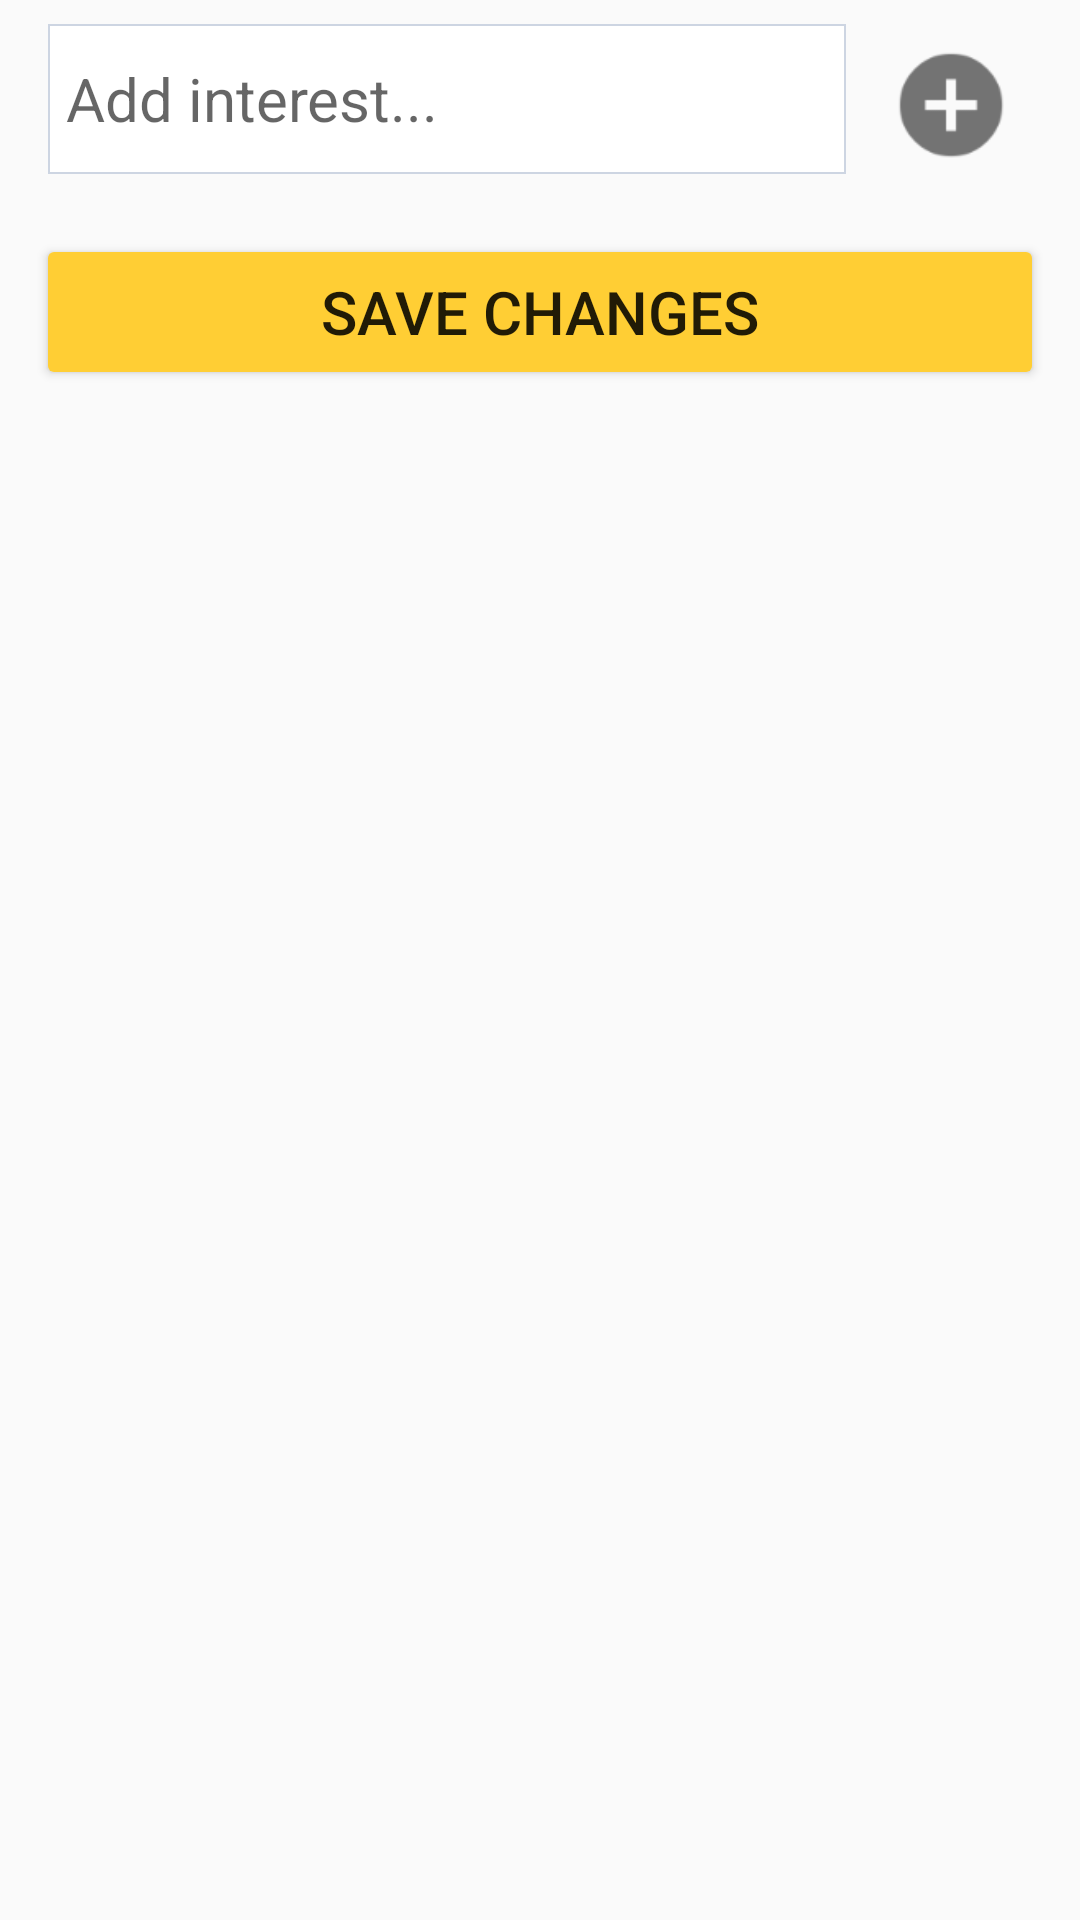

Locate icon controls on the screen. Image size 1080x1920, boxes as (x1, y1, x2, y2).
add circle: (899, 53, 1003, 157)
